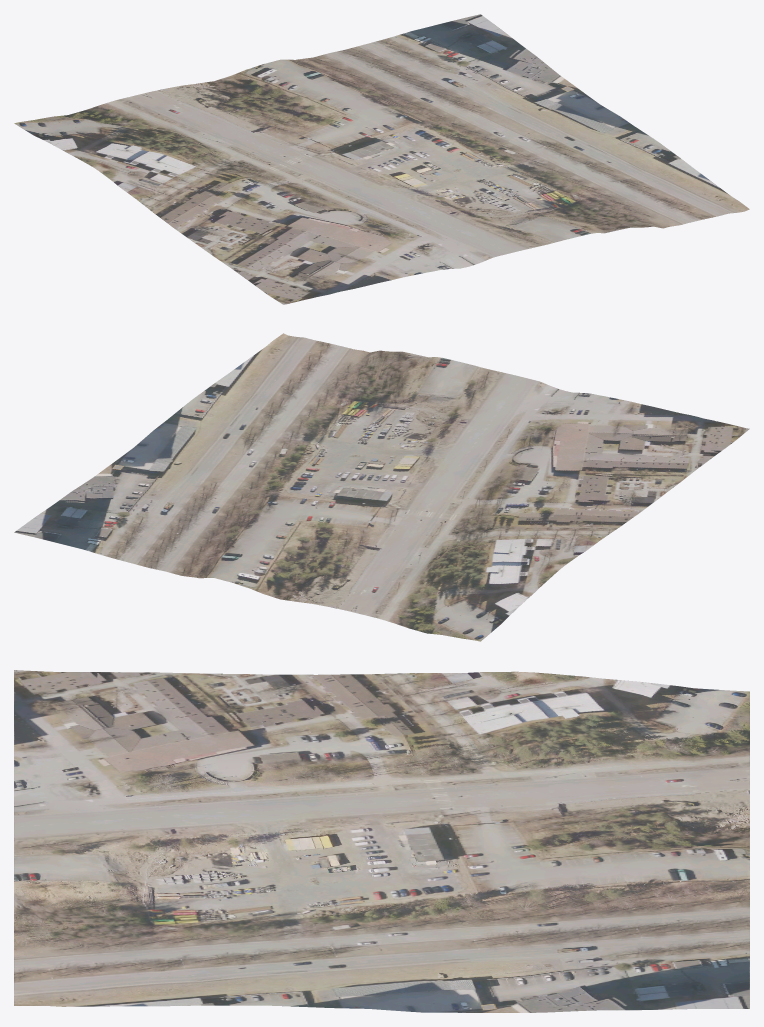
Rendered from CM_Terrain_24491687_6816312.fbx.
3 views of the same model, one above another, from view 1: azimuth 30°, elevation 25°; view 2: azimuth 150°, elevation 25°; view 3: azimuth 270°, elevation 25° (orthographic). The views are drawn at different scales.
Visible parts, largest first — view 1: CM_Terrain_24491687_6816312_LOD0; view 2: CM_Terrain_24491687_6816312_LOD0; view 3: CM_Terrain_24491687_6816312_LOD0.
Part boxes in pixels (x1=…): CM_Terrain_24491687_6816312_LOD0: x1=14, y1=14, x2=749, y2=304; CM_Terrain_24491687_6816312_LOD0: x1=14, y1=333, x2=749, y2=641; CM_Terrain_24491687_6816312_LOD0: x1=14, y1=670, x2=749, y2=1012.
Size of what is drawn, in the model's own units: 205 by 9.81 by 205.
